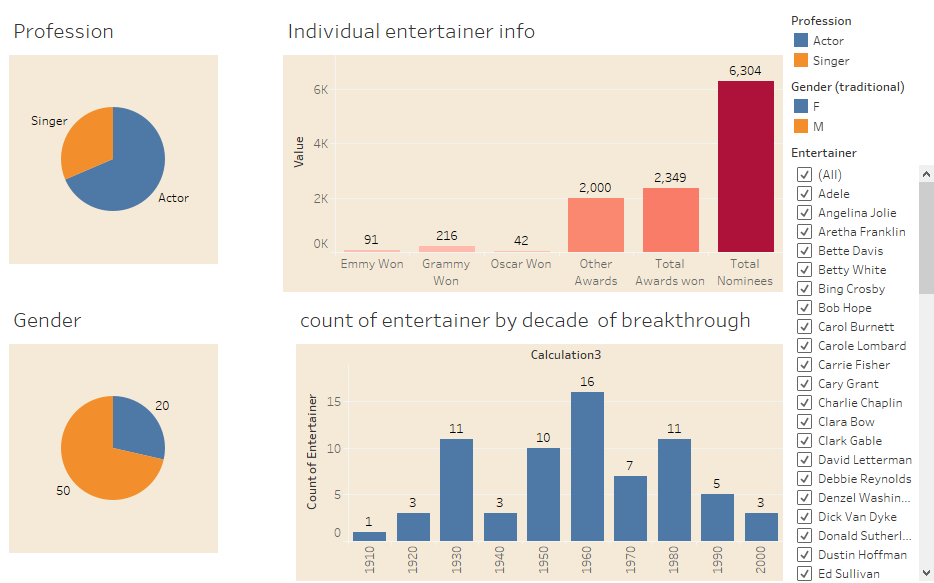

The dashboard page shown, as its layout file describes it:
{"tool":"tableau","page":{"name":"Dashboard 1","canvas":[1000,1000],"units":"permille","ordinal":0},"visuals":[{"type":"worksheet","title":"Profession","mark":"Pie","box":[8.4,13.5,288.4,486.5]},{"type":"worksheet","title":"Individual entertainer info","mark":"Automatic","box":[296.8,13.5,534.7,486.5]},{"type":"legend","title":"Profession","param":"[federated.0yt6gbz1fs46f71166u9e0dxpsmw].[none:Profession:nk]","box":[831.6,13.5,160,111.3]},{"type":"legend","title":"Gender","param":"[federated.0yt6gbz1fs46f71166u9e0dxpsmw].[none:Gender (traditional):nk]","box":[831.6,124.8,160,111.3]},{"type":"filter","title":"Individual entertainer info","param":"[federated.0yt6gbz1fs46f71166u9e0dxpsmw].[none:Entertainer:nk]","box":[831.6,236.1,160,750.4]},{"type":"worksheet","title":"Gender","mark":"Pie","box":[8.4,500,302,486.5]},{"type":"worksheet","title":"count of entertainer by decade  of breakthrough","mark":"Bar","rows":["Entertainer"],"cols":["Calculation_264867996248350723"],"box":[310.4,500,521.1,486.5]}]}

Visuals, with their boxes on the dashboard's canvas, which has no fixed pixel size, in thousandths of its width and height (x1, y1, x2, y2). These are canvas units, not pixel positions in the 934x583 screenshot, which may show the page scaled, cropped or inside an application window:
"Profession" worksheet (Pie marks): crop(8, 14, 297, 500)
"Individual entertainer info" worksheet: crop(297, 14, 832, 500)
"Profession" legend: crop(832, 14, 992, 125)
"Gender" legend: crop(832, 125, 992, 236)
"Individual entertainer info" filter: crop(832, 236, 992, 986)
"Gender" worksheet (Pie marks): crop(8, 500, 310, 986)
"count of entertainer by decade  of breakthrough" worksheet (Bar marks): crop(310, 500, 832, 986)
